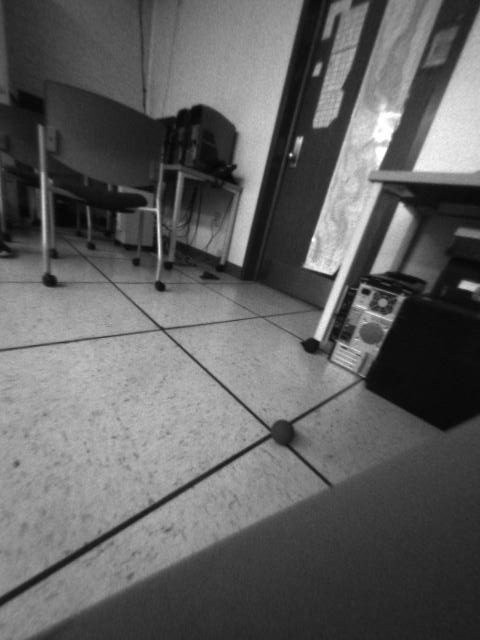dogtoy: (261, 414, 304, 453)
